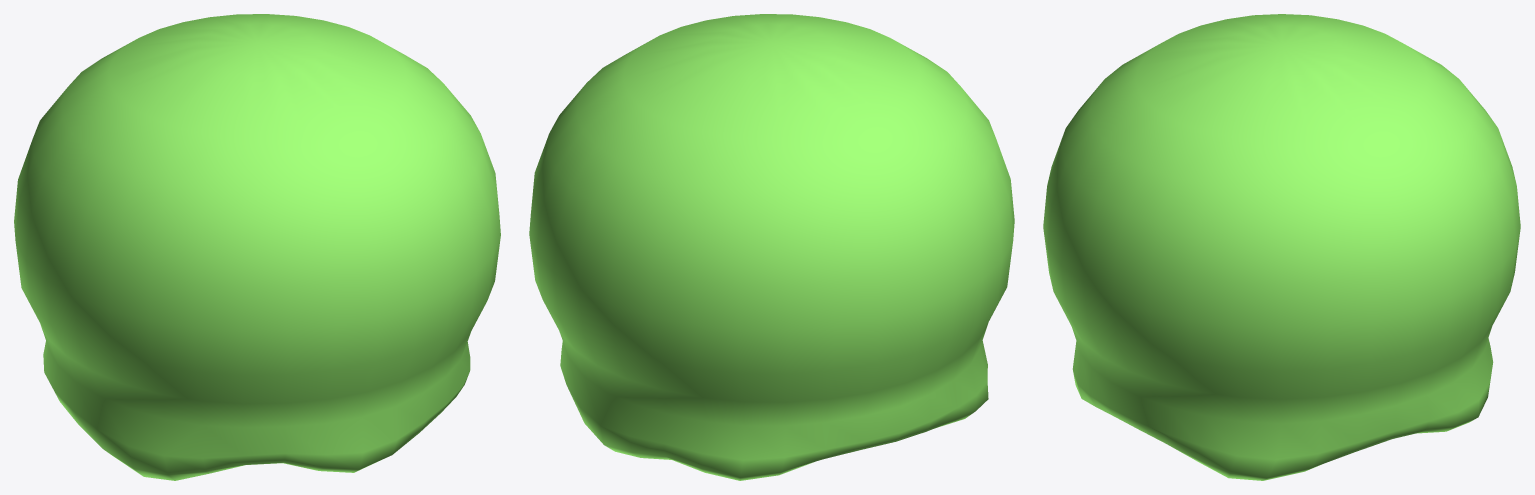
Rendered from Ice Cream Melted Green.fbx.
3 renders of one model, left to right at view 1: azimuth 30°, elevation 25°; view 2: azimuth 150°, elevation 25°; view 3: azimuth 270°, elevation 25°, orthographic. The views are drawn at different scales.
Visible parts, largest first — view 1: Ice Cream Melted Green; view 2: Ice Cream Melted Green; view 3: Ice Cream Melted Green.
Boxes of the visible parts, left/top/right/bottom form: Ice Cream Melted Green: left=14, top=14, right=500, bottom=480; Ice Cream Melted Green: left=529, top=14, right=1014, bottom=480; Ice Cream Melted Green: left=1043, top=14, right=1520, bottom=480.
Bounding box in the file's own units: 0.4884 × 0.3979 × 0.4884.
